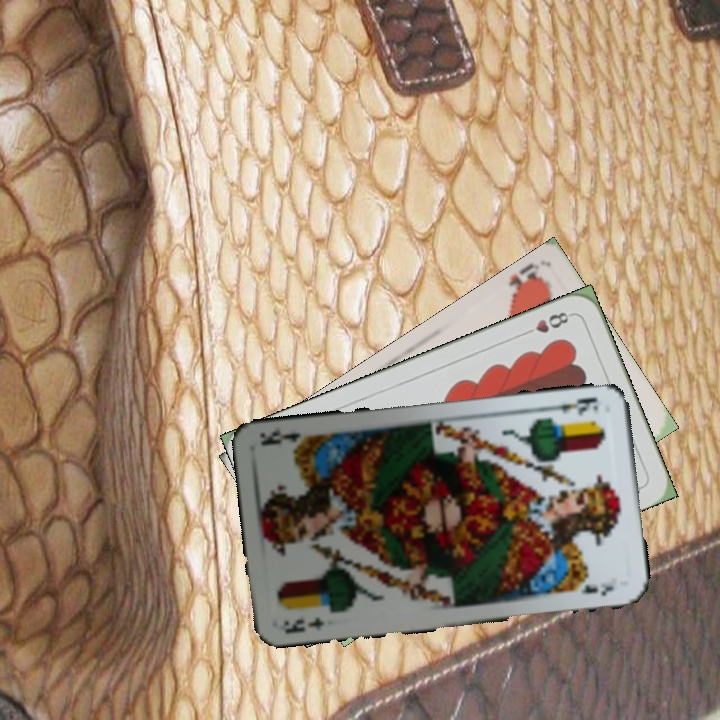EK: (545, 393, 604, 417), (277, 612, 327, 637)
H8: (519, 307, 575, 339)
HO: (504, 259, 546, 305)
